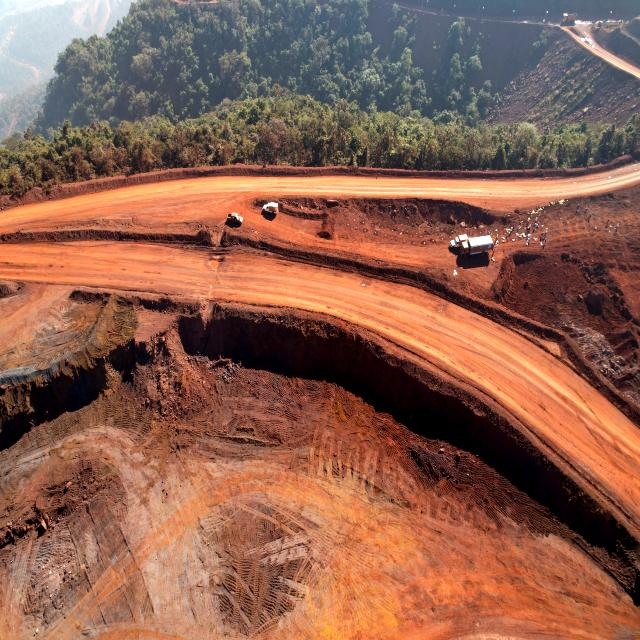Dumper truck: (561, 13, 577, 24)
car: (226, 211, 242, 226), (262, 202, 279, 214)
person: (537, 220, 540, 229), (544, 238, 547, 246), (607, 218, 610, 226), (517, 225, 520, 233), (528, 236, 531, 244), (510, 229, 512, 238), (589, 212, 591, 221), (493, 247, 495, 255), (617, 223, 619, 231), (496, 233, 498, 241)
